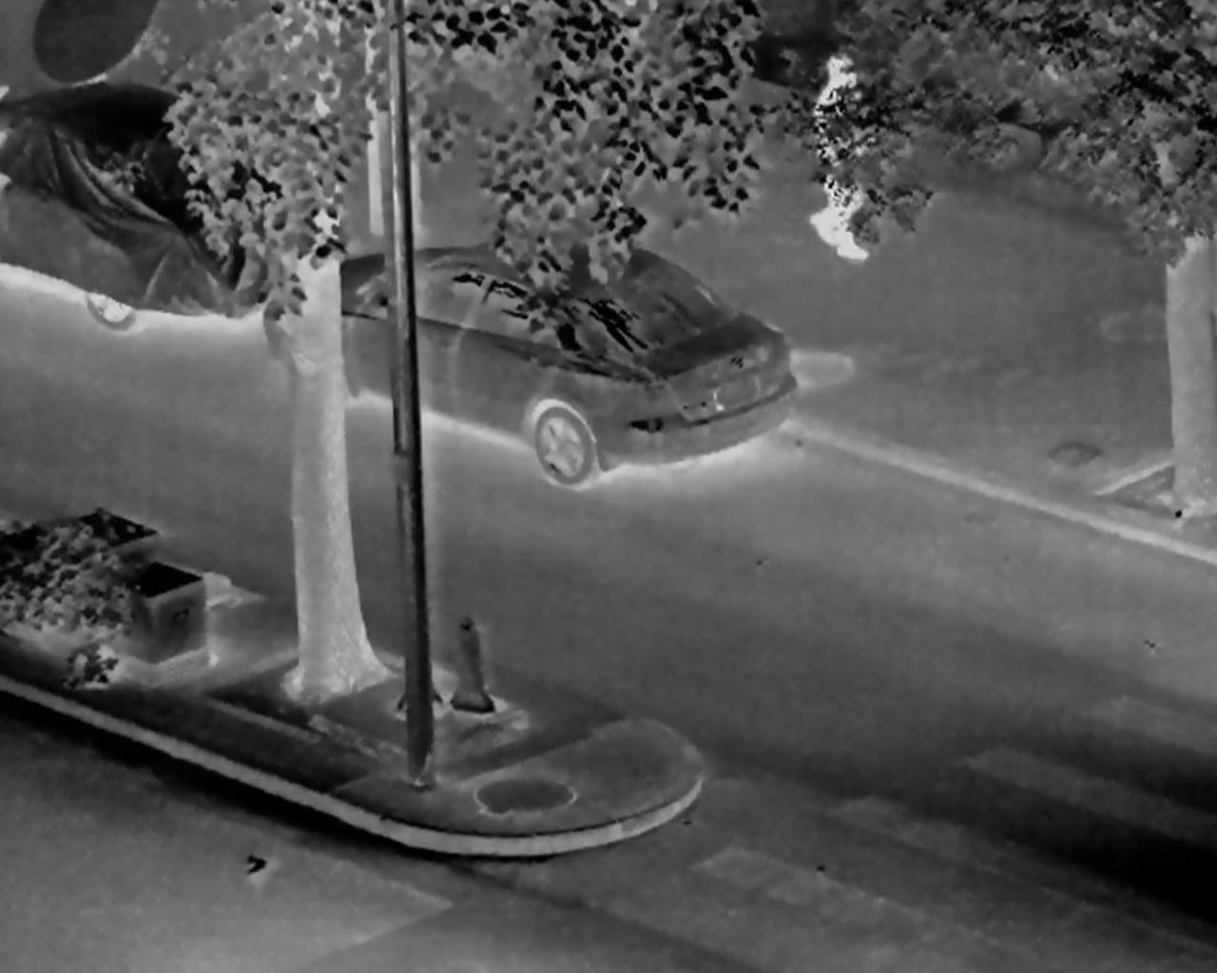person: (812, 51, 879, 262)
